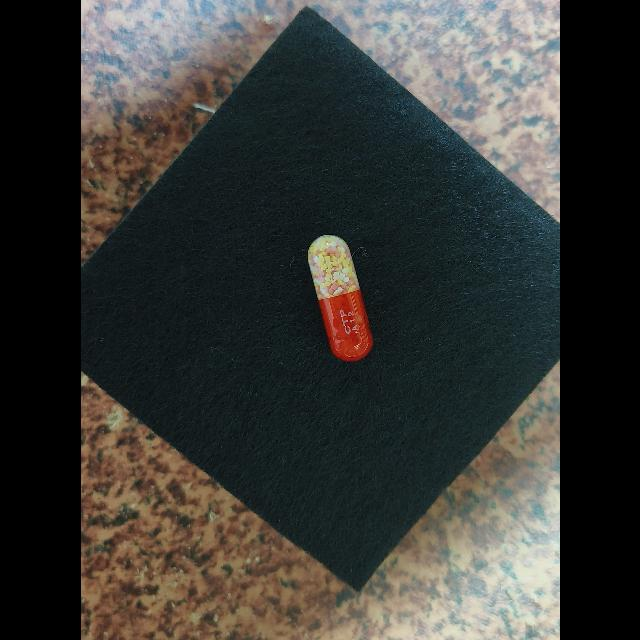Intact Capsule: (307, 235, 373, 361)
